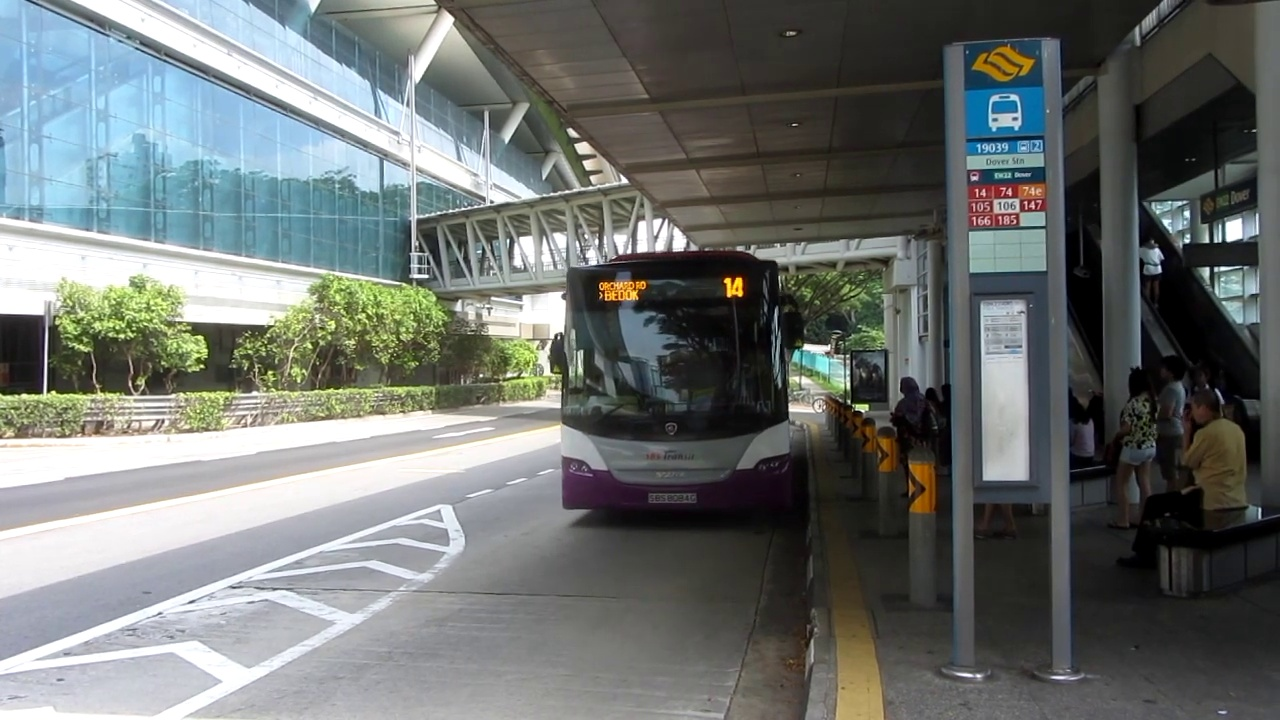bus panel: (592, 274, 748, 304)
